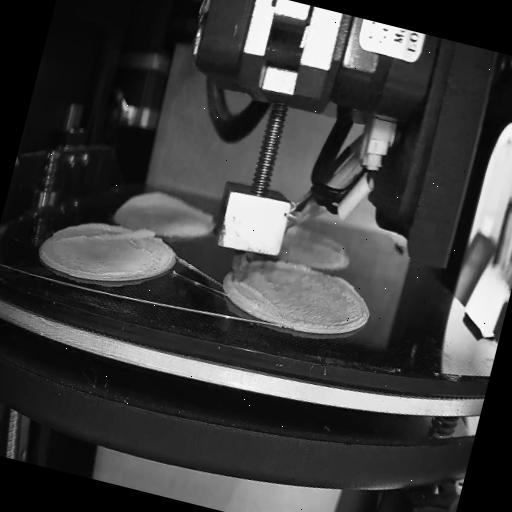over_extrusion: (114, 176, 218, 238), (60, 207, 156, 261), (285, 223, 353, 255), (268, 254, 316, 282), (238, 281, 278, 307), (328, 273, 362, 298)
